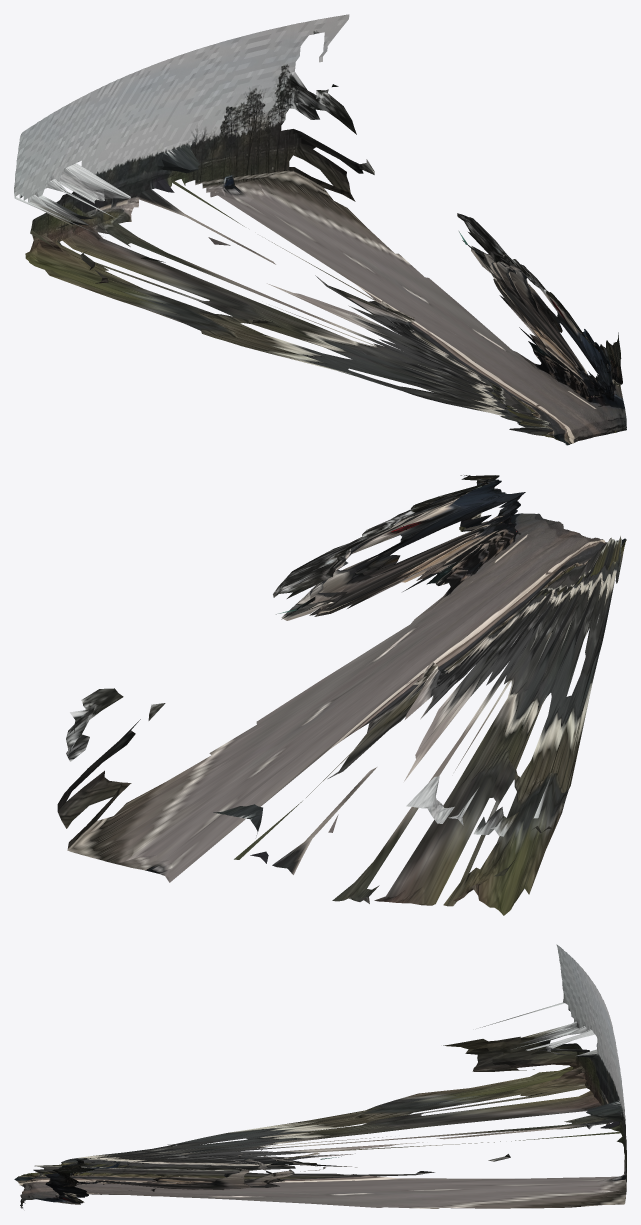
The picture shows the model from 3 angles, top to bottom: view 1: azimuth 30°, elevation 25°; view 2: azimuth 150°, elevation 25°; view 3: azimuth 270°, elevation 25°; orthographic projection. The views are drawn at different scales.
Visible parts, largest first — view 1: defaultobject; view 2: defaultobject; view 3: defaultobject.
Part boxes in pixels (bbox=[...]): defaultobject: bbox=[14, 14, 626, 445]; defaultobject: bbox=[57, 475, 626, 915]; defaultobject: bbox=[14, 944, 626, 1208].
Size of the model in its own units: 27.02 by 11.77 by 44.78.
1 material, 1 textured.
